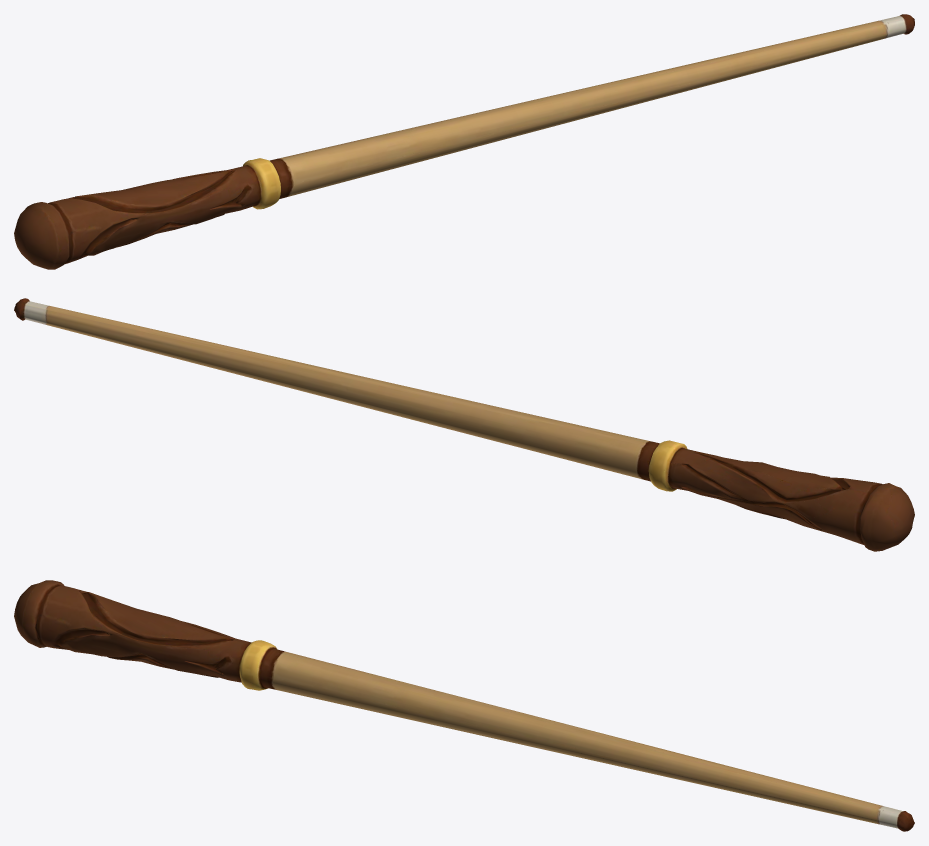
The model's file is billard_queue.glb.
3 renders of one model, top to bottom at view 1: azimuth 30°, elevation 25°; view 2: azimuth 150°, elevation 25°; view 3: azimuth 330°, elevation 25°, orthographic.
Visible parts, largest first — view 1: geometry_0; view 2: geometry_0; view 3: geometry_0.
Part boxes in pixels (bbox=[...]): geometry_0: bbox=[14, 14, 914, 269]; geometry_0: bbox=[14, 298, 914, 551]; geometry_0: bbox=[14, 580, 914, 831].
Bounding box in the file's own units: 0.9556 × 0.0639 × 0.0674.
1 material, 1 textured.
